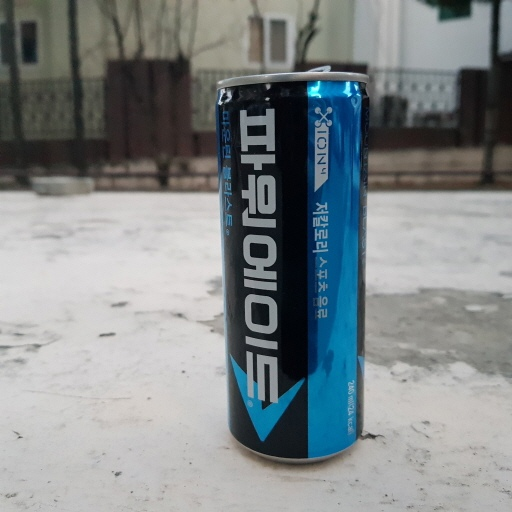Metal_0: (210, 63, 374, 463)
